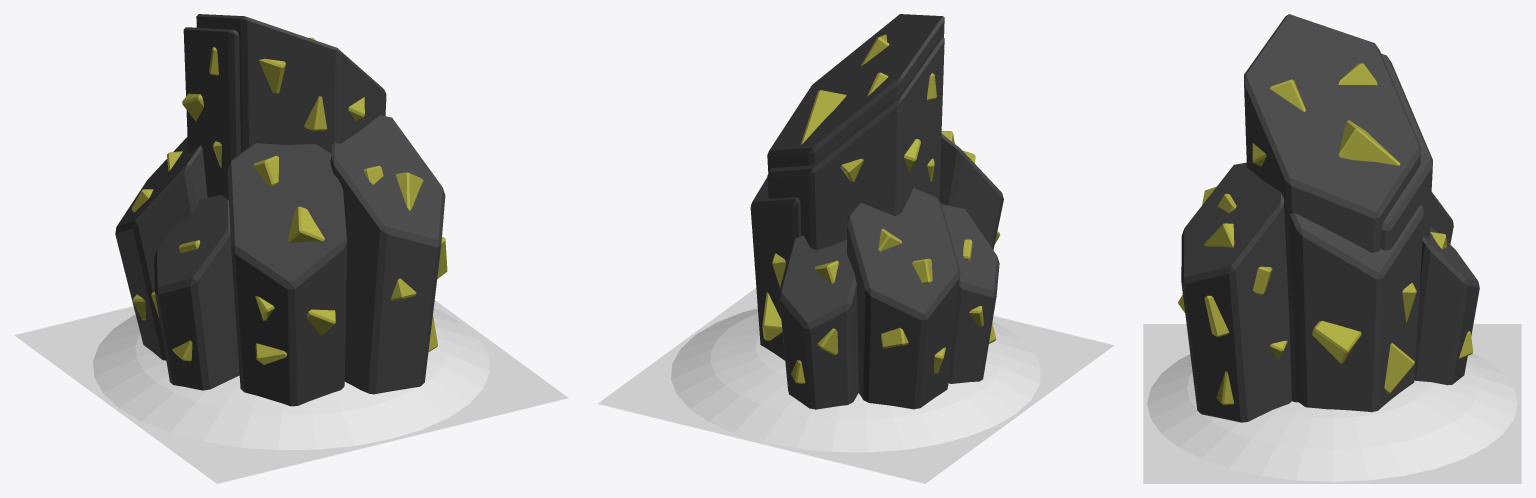
Rendered from Ore.fbx.
The picture shows the model from 3 angles, left to right: view 1: azimuth 30°, elevation 25°; view 2: azimuth 150°, elevation 25°; view 3: azimuth 270°, elevation 25°; orthographic projection. The views are drawn at different scales.
Visible parts, largest first — view 1: Cylinder.006, Sphere, Plane, Cube.020; view 2: Cylinder.006, Sphere, Plane, Cube.020; view 3: Cylinder.006, Sphere, Plane, Cube.020.
Part boxes in pixels (left/top/right/bottom): Cylinder.006: left=115, top=14, right=445, bottom=406; Sphere: left=93, top=308, right=489, bottom=450; Plane: left=14, top=300, right=568, bottom=483; Cube.020: left=131, top=37, right=447, bottom=364; Cylinder.006: left=750, top=14, right=1003, bottom=409; Sphere: left=671, top=308, right=1040, bottom=452; Plane: left=598, top=288, right=1114, bottom=483; Cube.020: left=762, top=34, right=1000, bottom=383; Cylinder.006: left=1181, top=14, right=1479, bottom=422; Sphere: left=1147, top=353, right=1517, bottom=481; Plane: left=1143, top=324, right=1521, bottom=483; Cube.020: left=1178, top=63, right=1472, bottom=404.
Size of the model in its own units: 473 by 494 by 473.
